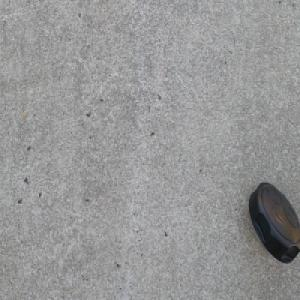FuelCap: (247, 181, 300, 264)
